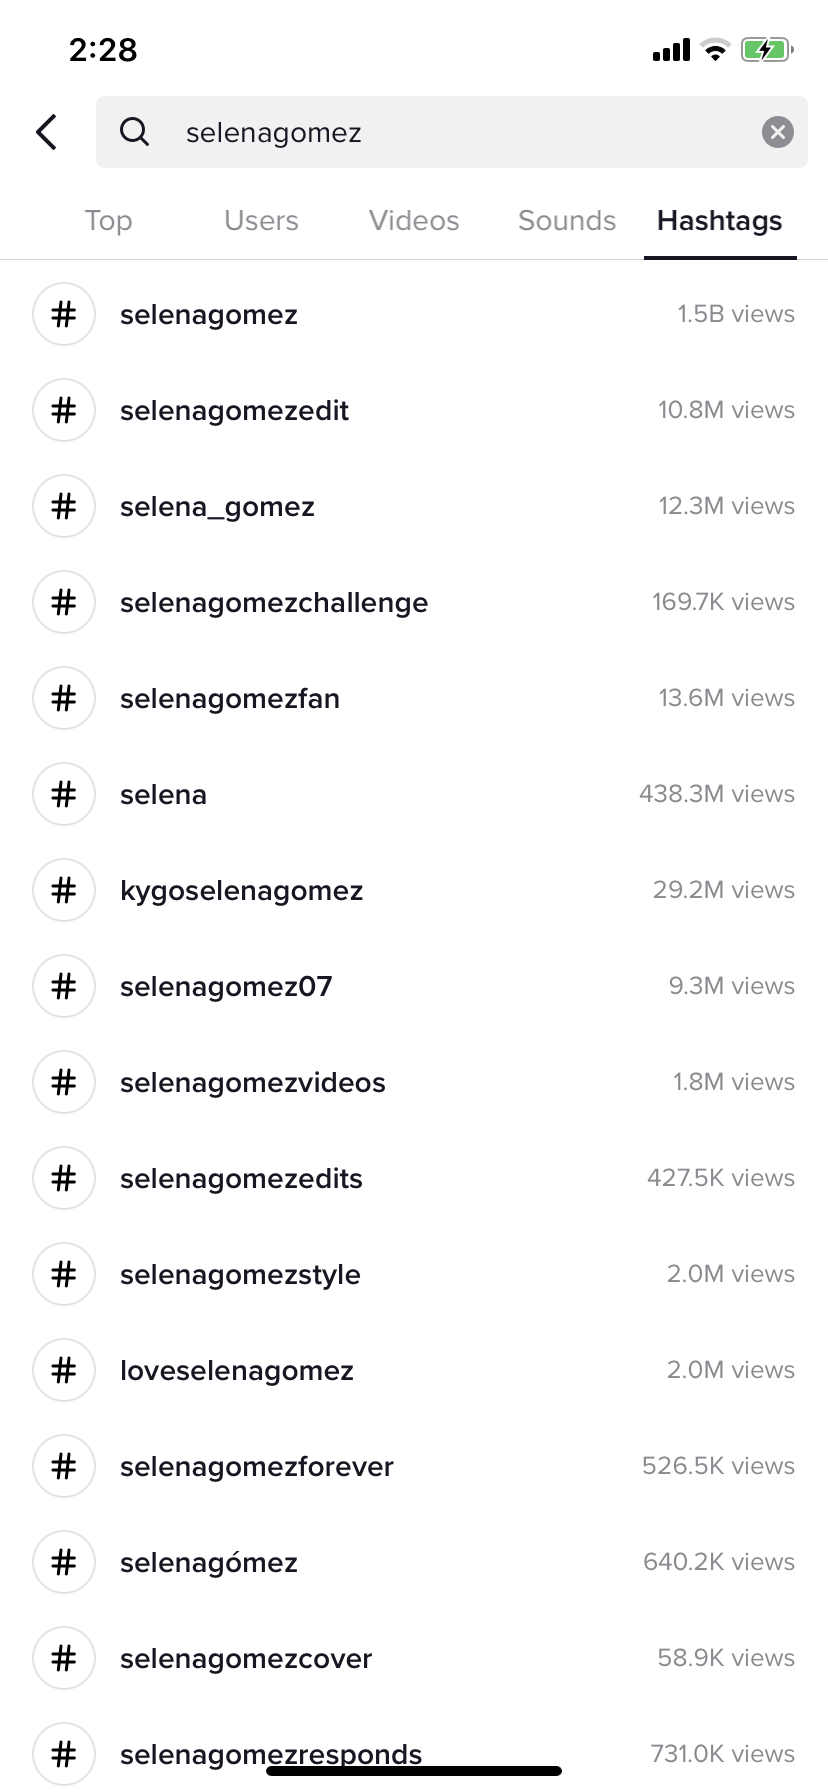Buttons: (1, 90, 93, 173)
